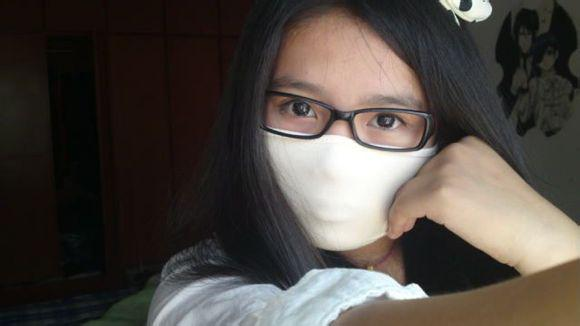OK: (268, 64, 436, 243)
